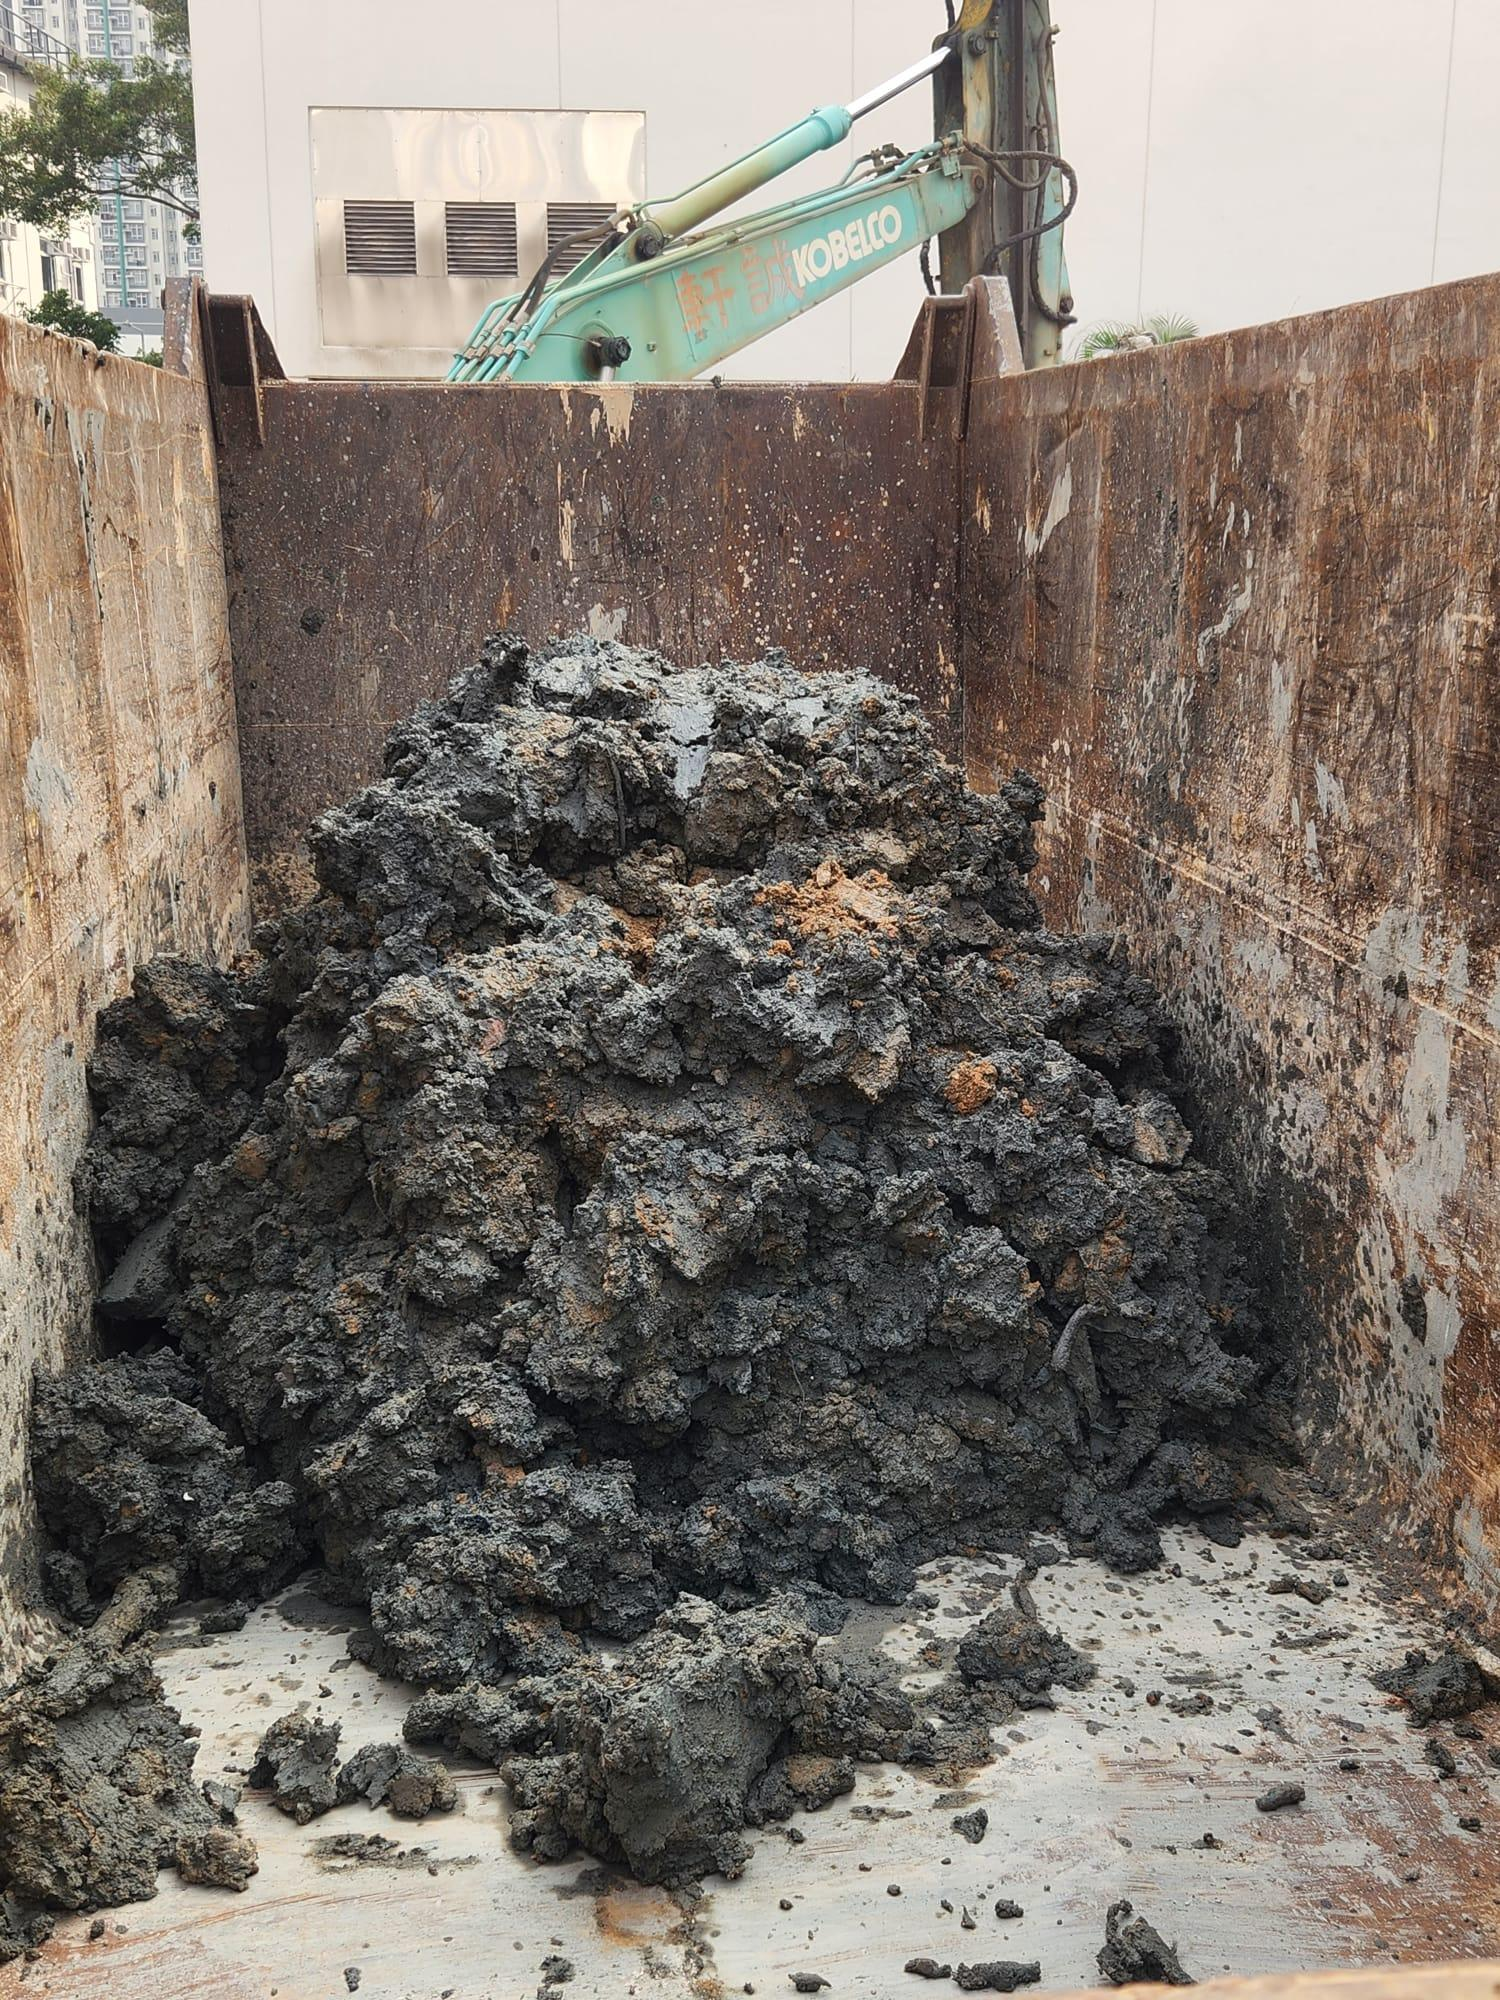wet: (84, 627, 1290, 1854)
